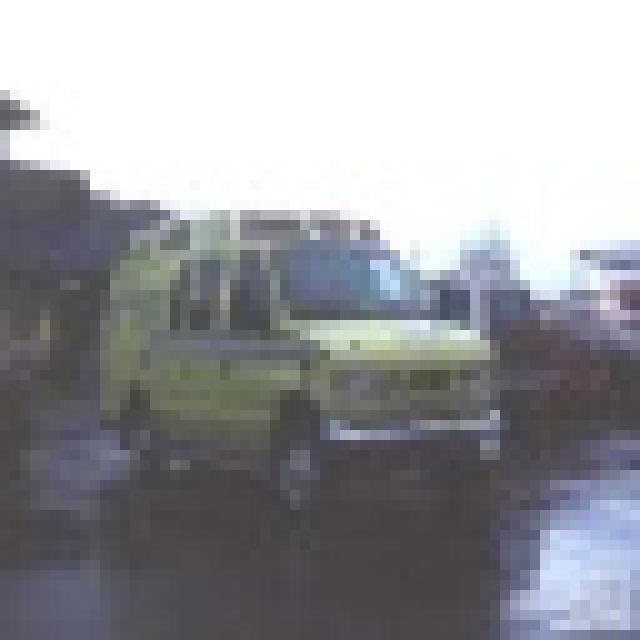Ambulance: (90, 200, 500, 510)
